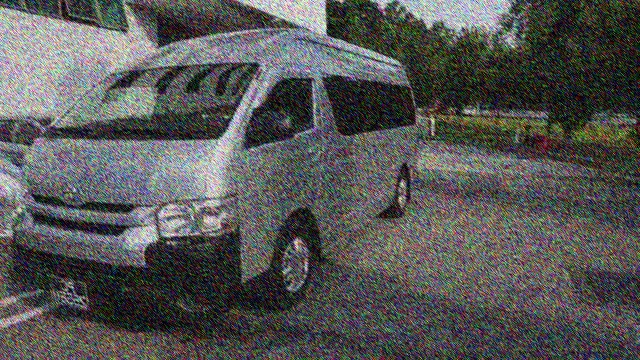van: (0, 29, 423, 328)
